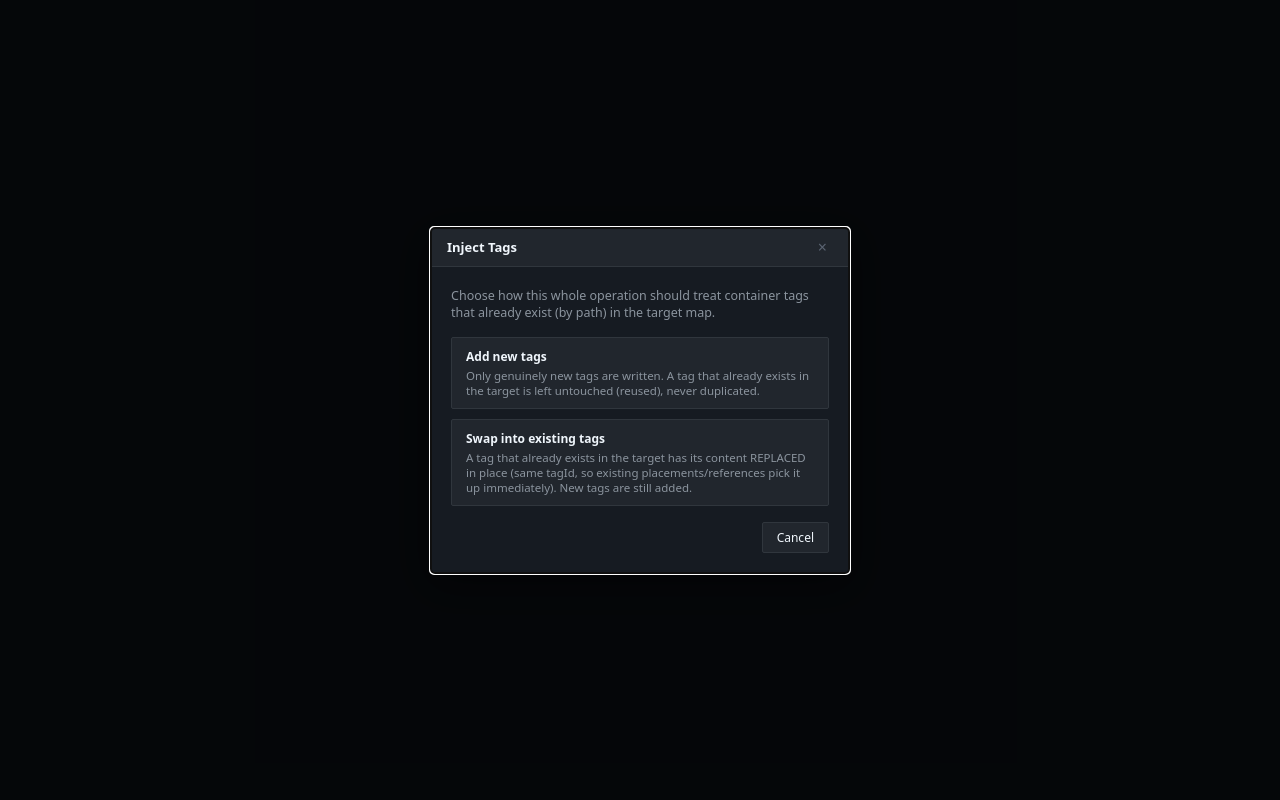
Test: InjectDialog (in-memory inject) › a failed apply says the open map is unchanged
Click the button with test id "inject-mode-add" at (640, 372), box [451, 336, 829, 408]
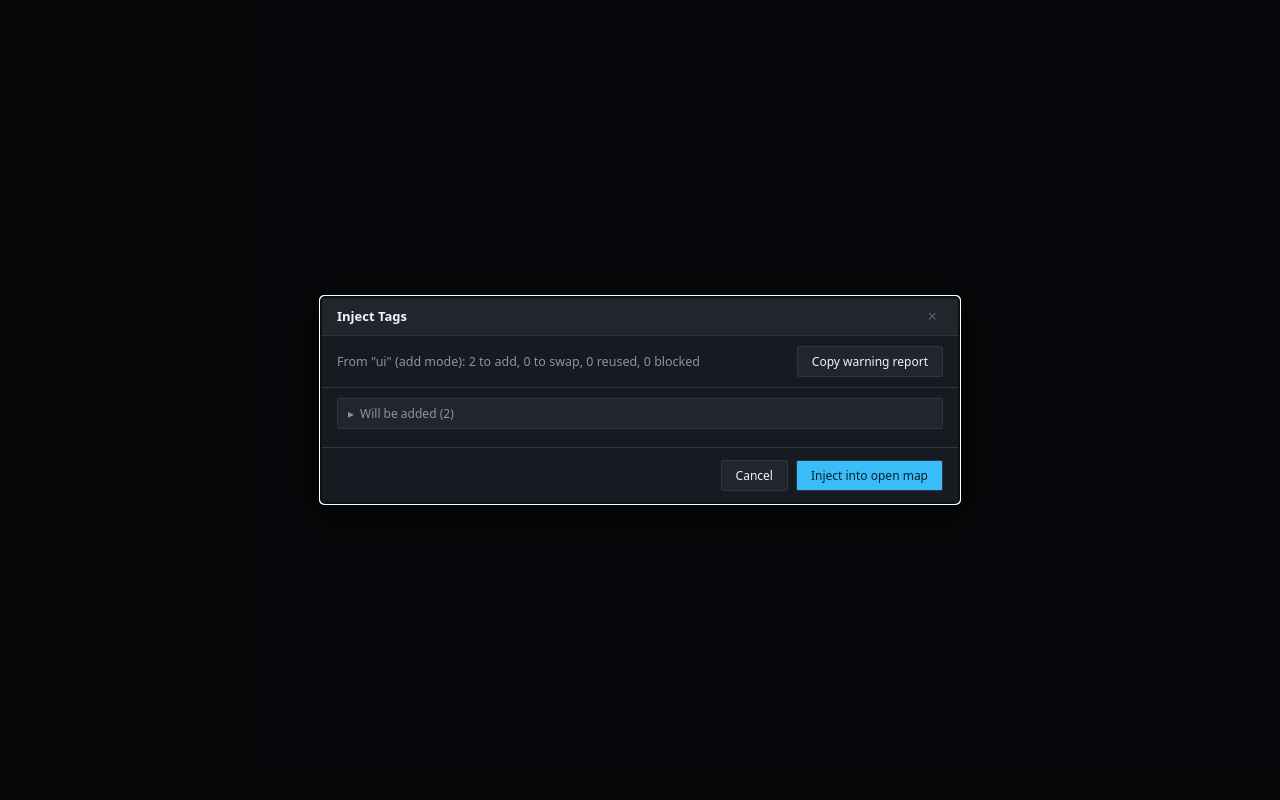
Now the element with test id "inject-dialog-summary" is shown, box [321, 336, 959, 388]
Now the button with test id "inject-copy-warning-report-button" is shown, box [797, 346, 943, 377]
Now the button with test id "inject-confirm-button" reads "Inject into open map"
Click the button with test id "inject-confirm-button" at (869, 476), box [796, 460, 943, 491]
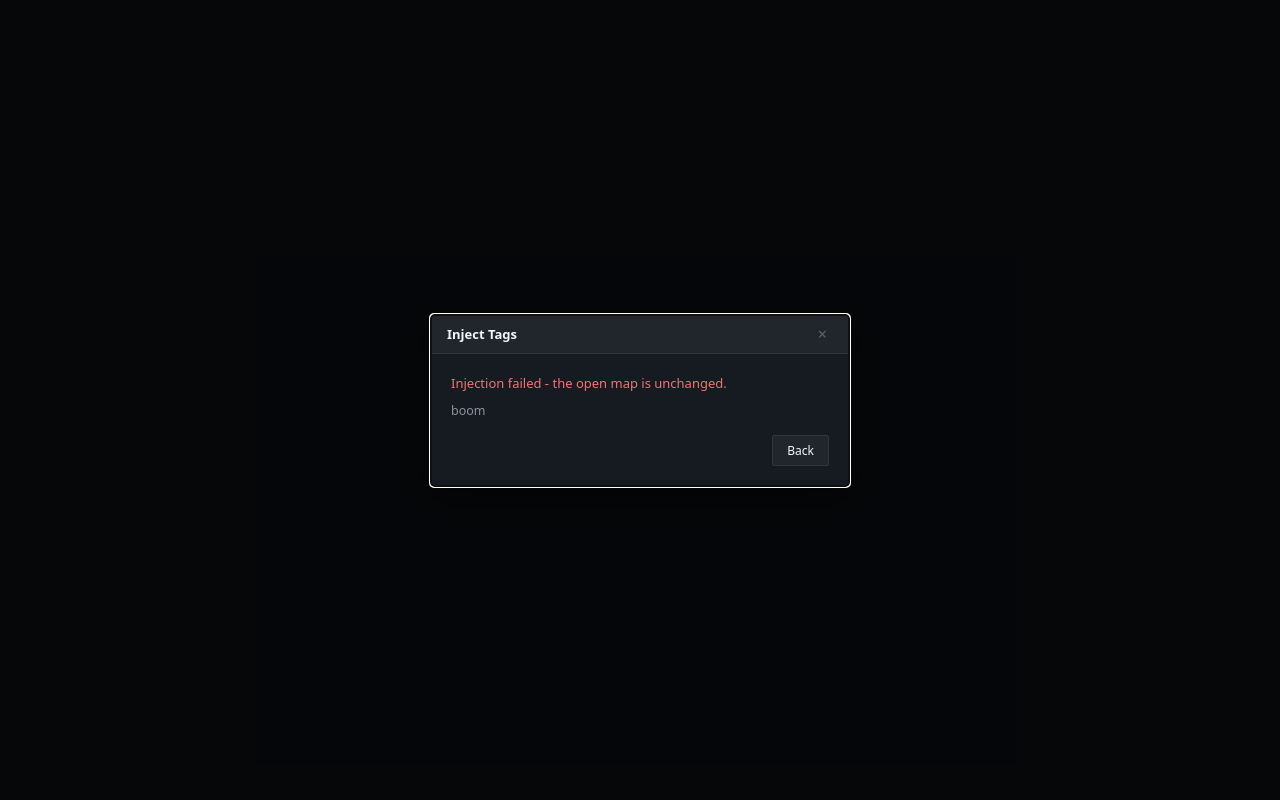
Now the element with test id "inject-apply-error" shows "the open map is unchanged", box [451, 374, 727, 392]
